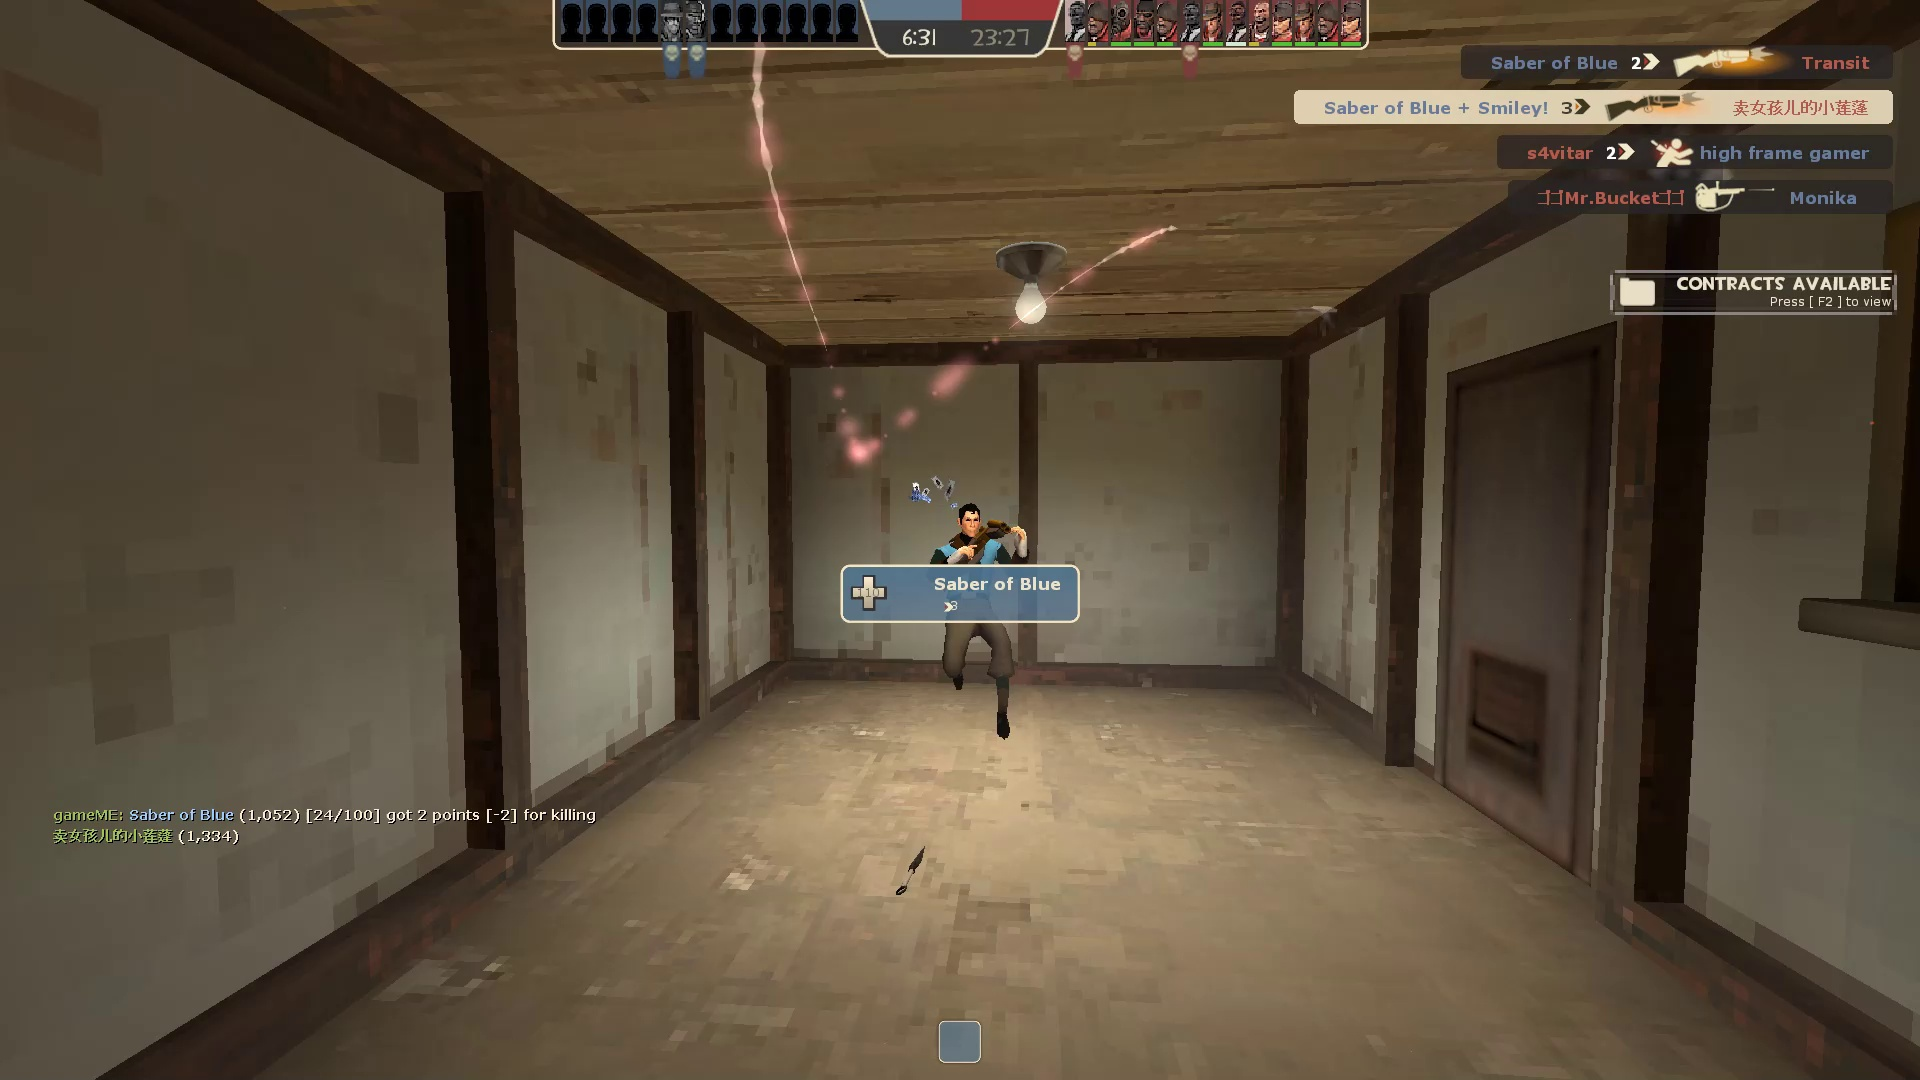blu_scout: (916, 501, 1030, 756)
